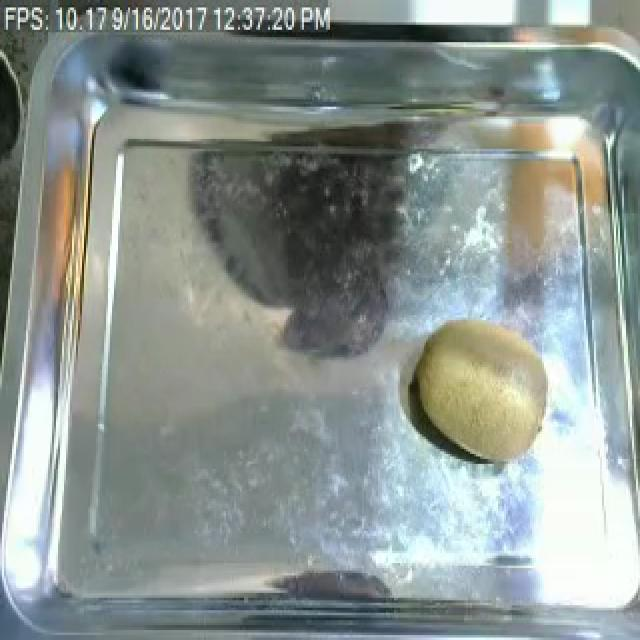Fruit: (406, 307, 558, 473)
